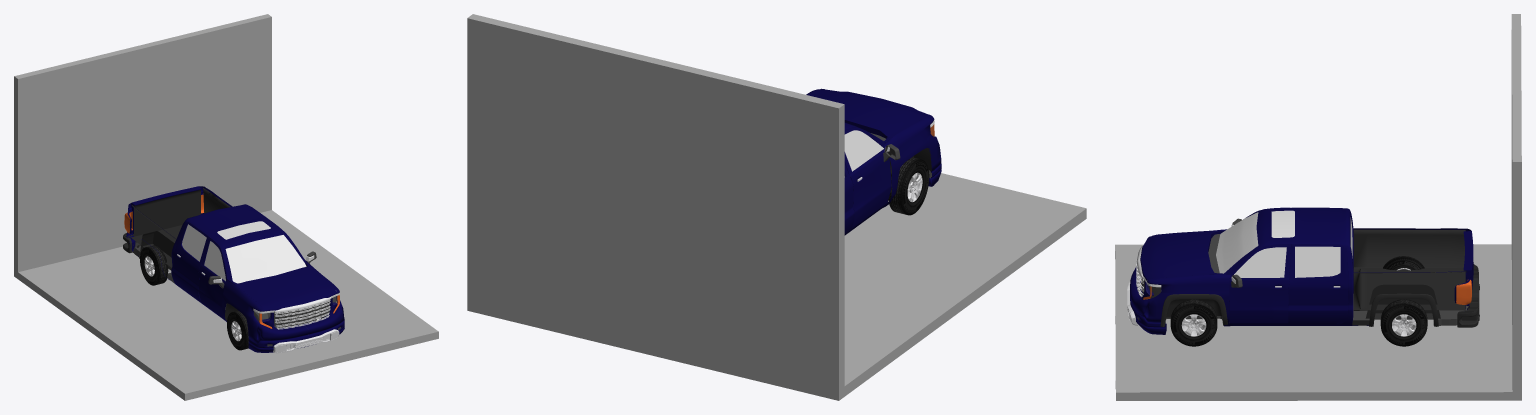
Rendered from car123.glb.
The picture shows the model from 3 angles, left to right: view 1: azimuth 30°, elevation 25°; view 2: azimuth 150°, elevation 25°; view 3: azimuth 270°, elevation 25°; orthographic projection. The views are drawn at different scales.
Visible parts, largest first — view 1: model.001, polySurface14724, polySurface14822.001, prepare_for_client_30:prepare_for_client_09:polySurface1, polySurface14724.002, Cube.004, Cube.001, prepare_for_client_30:prepare_for_client_09:for_client:_db64, polySurface4201.004, prepare_for_client_30:for_client:polySurface3177, prepare_for_client_30:prepare_for_client_09:for_client:_6ce8, polySurface4201.006 (+2 smaller); view 2: model.001, Cube.004, prepare_for_client_30:prepare_for_client_09:polySurface1, polySurface14724, polySurface4201.006, Cube.001; view 3: model.001, polySurface14724, polySurface14822.001, Cube.004, prepare_for_client_30:prepare_for_client_09:polySurface1, Cube.001, polySurface14724.002, polySurface4201.001, polySurface4201.002, polySurface14664, Plane, prepare_for_client_30:for_client:polySurface2915 (+7 smaller).
Boxes of the visible parts, bbox=[...] form: model.001: bbox=[14, 14, 438, 400]; polySurface14724: bbox=[171, 204, 344, 352]; polySurface14822.001: bbox=[131, 188, 230, 267]; prepare_for_client_30:prepare_for_client_09:polySurface1: bbox=[229, 261, 336, 311]; polySurface14724.002: bbox=[225, 235, 306, 283]; Cube.004: bbox=[173, 221, 301, 319]; Cube.001: bbox=[182, 224, 225, 281]; prepare_for_client_30:prepare_for_client_09:for_client:_db64: bbox=[274, 300, 330, 329]; polySurface4201.004: bbox=[140, 245, 168, 285]; prepare_for_client_30:for_client:polySurface3177: bbox=[267, 296, 336, 326]; prepare_for_client_30:prepare_for_client_09:for_client:_6ce8: bbox=[273, 329, 339, 353]; polySurface4201.006: bbox=[227, 310, 248, 350]; model.001: bbox=[467, 14, 1086, 400]; Cube.004: bbox=[844, 127, 891, 233]; prepare_for_client_30:prepare_for_client_09:polySurface1: bbox=[809, 89, 928, 142]; polySurface14724: bbox=[806, 88, 941, 235]; polySurface4201.006: bbox=[888, 157, 929, 215]; Cube.001: bbox=[844, 130, 883, 171]; model.001: bbox=[1115, 14, 1521, 400]; polySurface14724: bbox=[1130, 207, 1353, 334]; polySurface14822.001: bbox=[1353, 229, 1466, 310]; Cube.004: bbox=[1229, 207, 1348, 323]; prepare_for_client_30:prepare_for_client_09:polySurface1: bbox=[1140, 229, 1225, 280]; Cube.001: bbox=[1234, 246, 1340, 277]; polySurface14724.002: bbox=[1216, 212, 1258, 273]; polySurface4201.001: bbox=[1170, 299, 1217, 346]; polySurface4201.002: bbox=[1380, 299, 1427, 346]; polySurface14664: bbox=[1160, 293, 1438, 326]; Plane: bbox=[1365, 284, 1440, 318]; prepare_for_client_30:for_client:polySurface2915: bbox=[1137, 279, 1468, 325].
Size of the model in its own units: 15.78 by 11.85 by 18.3.
11 materials, 2 textured.
